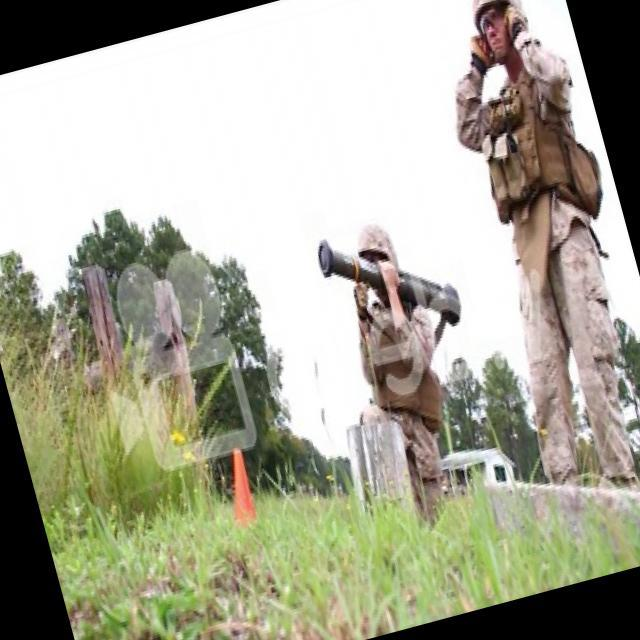rocket: (312, 208, 468, 367)
